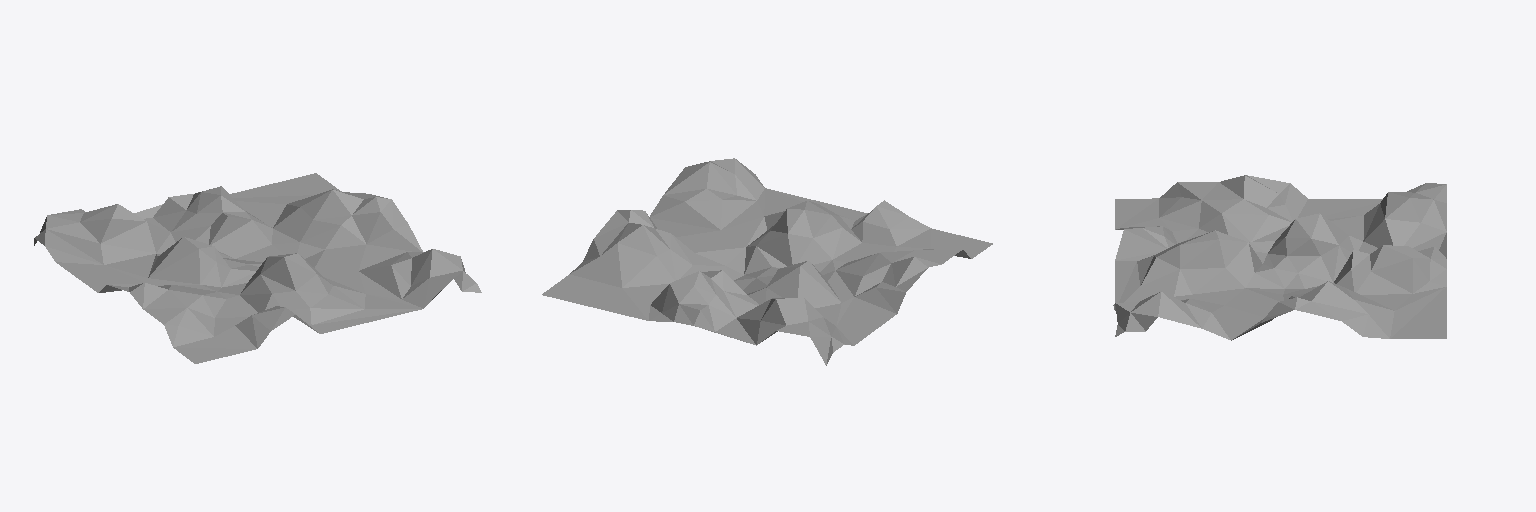
Rendered from map.obj.
3 renders of one model, left to right at view 1: azimuth 30°, elevation 25°; view 2: azimuth 150°, elevation 25°; view 3: azimuth 270°, elevation 25°, orthographic.
Parts seen in each view (by area): view 1: Plane; view 2: Plane; view 3: Plane.
Part boxes in pixels (bbox=[...]): Plane: bbox=[34, 173, 481, 363]; Plane: bbox=[542, 158, 992, 365]; Plane: bbox=[1113, 175, 1446, 340].
Bounding box in the file's own units: 66.01 × 10.6 × 66.17.